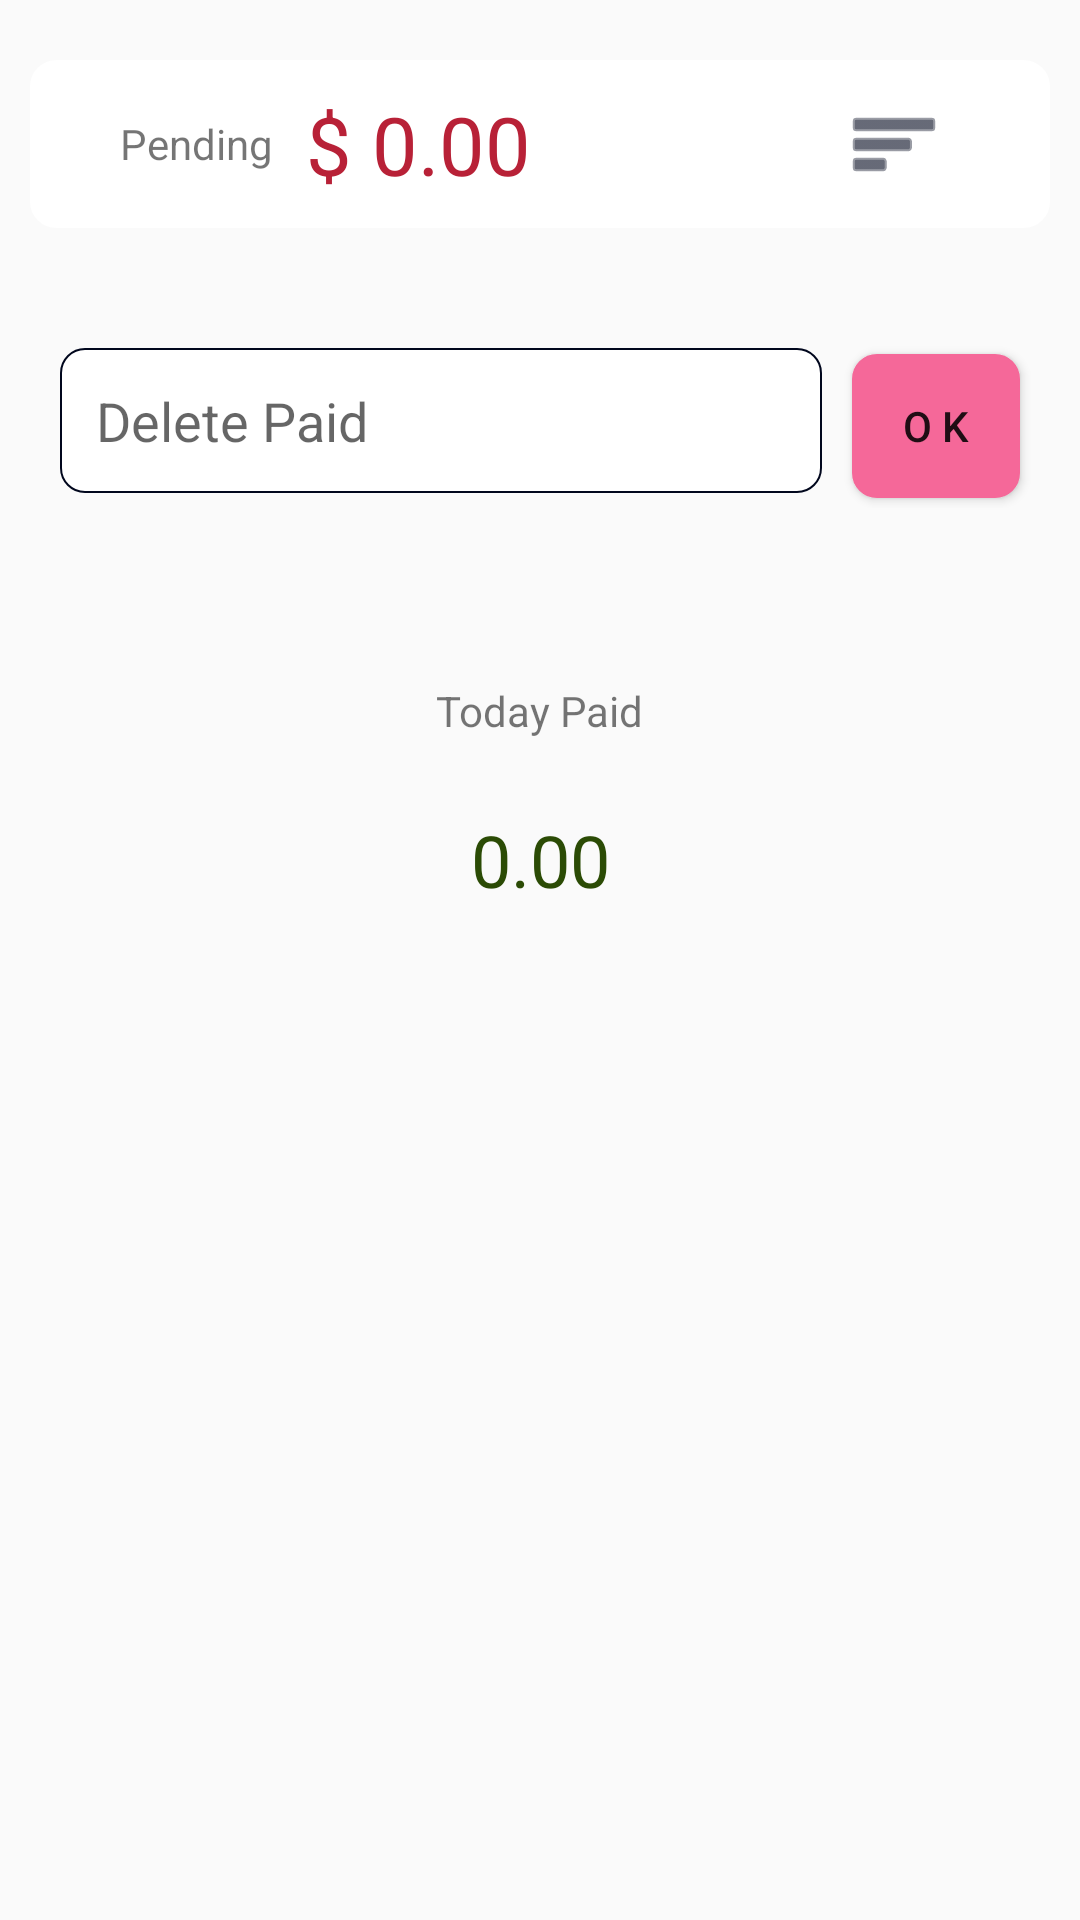

Point at icon controls on the screen. Image size 1080×1920, points as point (x, y).
sort by size: point (894, 144)
